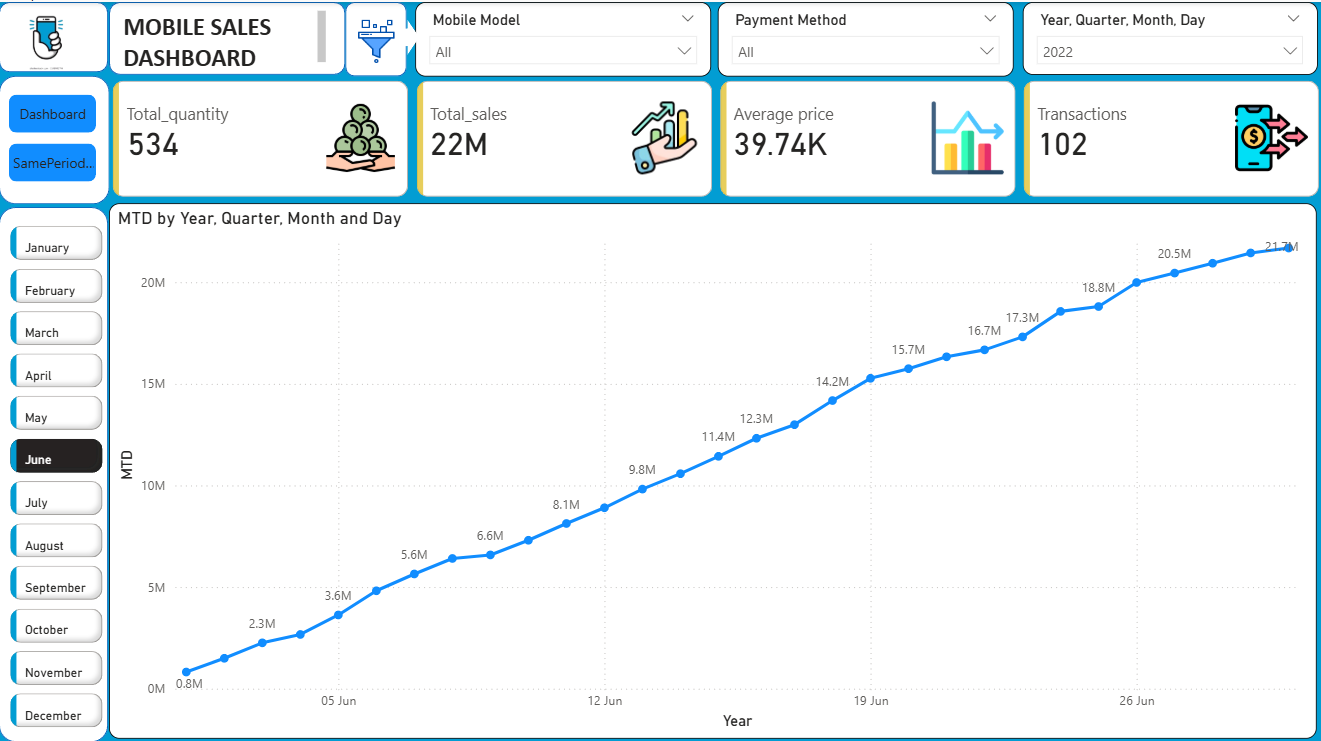

Layout of this report page (visuals, bound fields, positions):
{"tool":"powerbi","page":{"name":"MTD-QTD-YTD","canvas":[1280,720],"ordinal":1},"visuals":[{"type":"shape","box":[0,0,105.3,67.8],"z":0},{"type":"image","box":[7.2,2.9,76.5,67.8],"z":1000},{"type":"shape","box":[0,70.7,106.8,124.1],"z":2000},{"type":"cardVisual","fields":{"Data":["Mobile_Sales_Data.Total_quantity","Mobile_Sales_Data.Total_sales","Mobile_Sales_Data.Average price","Mobile_Sales_Data.Transactions"]},"box":[105.2,71.4,1175.3,122.1],"z":3000},{"type":"slicer","fields":{"Values":["Mobile_Sales_Data.Mobile Model"]},"box":[401.6,0,285.9,71.9],"z":4000},{"type":"slicer","fields":{"Values":["Mobile_Sales_Data.Payment Method"]},"box":[693.8,0,285.9,71.9],"z":5000},{"type":"slicer","fields":{"Values":["Customer_Calendar.Date.Variation.Date Hierarchy.Year","Customer_Calendar.Date.Variation.Date Hierarchy.Quarter","Customer_Calendar.Date.Variation.Date Hierarchy.Month","Customer_Calendar.Date.Variation.Date Hierarchy.Day"]},"box":[988.3,0,284.4,70.1],"z":6000},{"type":"shape","box":[334.4,0,59.4,71.9],"z":7000},{"type":"image","box":[337.5,10.9,53.1,54.7],"z":8000},{"type":"shape","box":[382.8,17.2,23.4,34.4],"z":9000},{"type":"shape","box":[106.2,0,228.1,70.3],"z":10000},{"type":"textbox","box":[114.1,3.1,206,64],"z":11000},{"type":"lineChart","fields":{"Y":["Mobile_Sales_Data.MTD"],"Category":["Customer_Calendar.Date.Variation.Date Hierarchy.Year","Customer_Calendar.Date.Variation.Date Hierarchy.Quarter","Customer_Calendar.Date.Variation.Date Hierarchy.Month","Customer_Calendar.Date.Variation.Date Hierarchy.Day"]},"box":[106.8,194.8,1165.8,516.5],"z":12000},{"type":"shape","box":[0,197.7,105.3,516.5],"z":13000},{"type":"advancedSlicerVisual","fields":{"Values":["Customer_Calendar.Date.Variation.Date Hierarchy.Month"]},"box":[5.8,210.6,99.6,500.6],"z":14000},{"type":"pageNavigator","box":[9.7,88.9,84.7,84.7],"z":15000}]}

Visuals, with their boxes in screenshot pixels (x1, y1, x2, y2), scaled from the page's 1280x720 canvas onto the 1321x741 screenshot:
shape: <box>0,0,109,70</box>
image: <box>7,3,86,73</box>
shape: <box>0,73,110,200</box>
cardVisual - Mobile_Sales_Data.Total_quantity x Mobile_Sales_Data.Total_sales: <box>109,73,1320,199</box>
slicer - Mobile_Sales_Data.Mobile Model: <box>414,0,710,74</box>
slicer - Mobile_Sales_Data.Payment Method: <box>716,0,1011,74</box>
slicer - Customer_Calendar.Date.Variation.Date Hierarchy.Year x Customer_Calendar.Date.Variation.Date Hierarchy.Quarter: <box>1020,0,1313,72</box>
shape: <box>345,0,406,74</box>
image: <box>348,11,403,68</box>
shape: <box>395,18,419,53</box>
shape: <box>110,0,345,72</box>
textbox: <box>118,3,330,69</box>
lineChart - Mobile_Sales_Data.MTD x Customer_Calendar.Date.Variation.Date Hierarchy.Year: <box>110,200,1313,732</box>
shape: <box>0,203,109,735</box>
advancedSlicerVisual - Customer_Calendar.Date.Variation.Date Hierarchy.Month: <box>6,217,109,732</box>
pageNavigator: <box>10,91,97,179</box>
